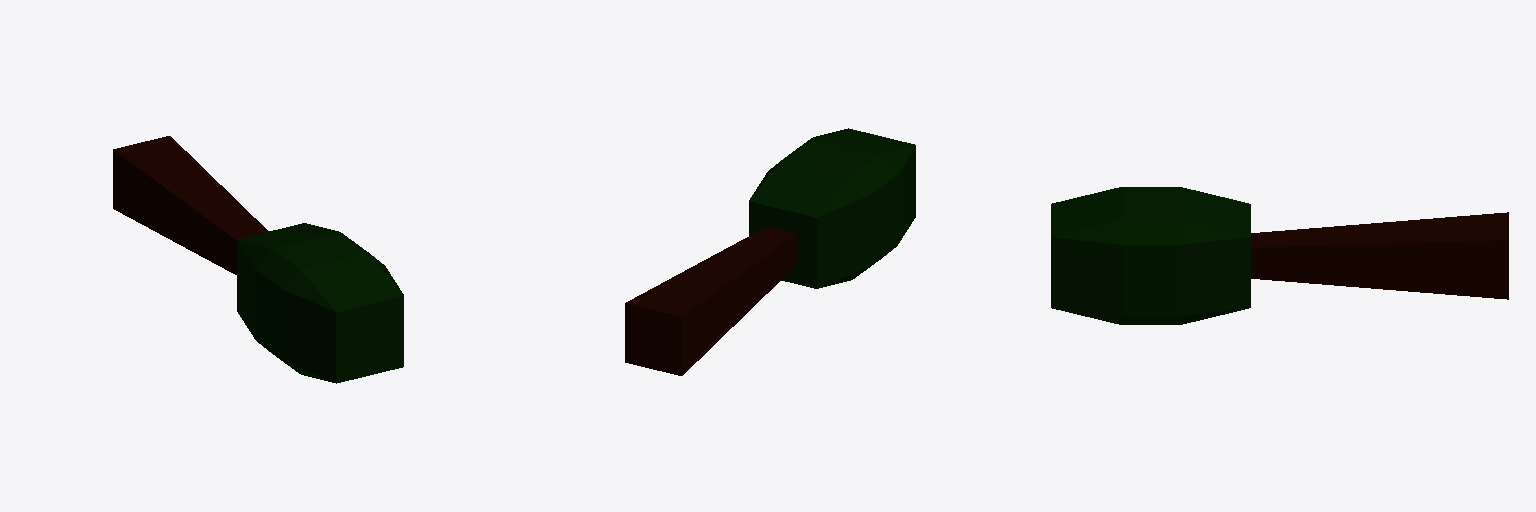
Rendered from apple_tree_10.obj.
3 renders of one model, left to right at view 1: azimuth 30°, elevation 25°; view 2: azimuth 150°, elevation 25°; view 3: azimuth 270°, elevation 25°, orthographic.
Visible parts, largest first — view 1: Cube; view 2: Cube; view 3: Cube.
Boxes of the visible parts, <box> form: Cube: <box>113,136,403,383</box>; Cube: <box>625,128,915,375</box>; Cube: <box>1051,187,1508,324</box>.
Bounding box in the file's own units: 0.5538 × 0.5538 × 2.18.